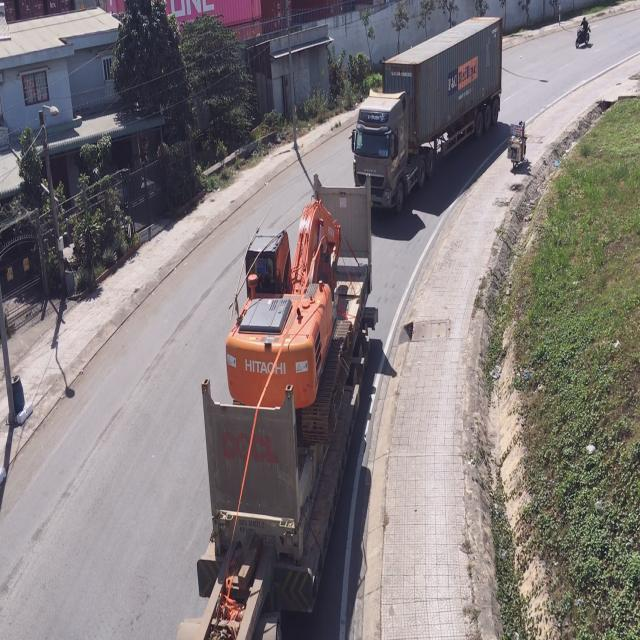motorbike: (506, 118, 526, 168), (575, 16, 593, 50)
truck: (172, 187, 380, 640), (354, 21, 508, 221)
